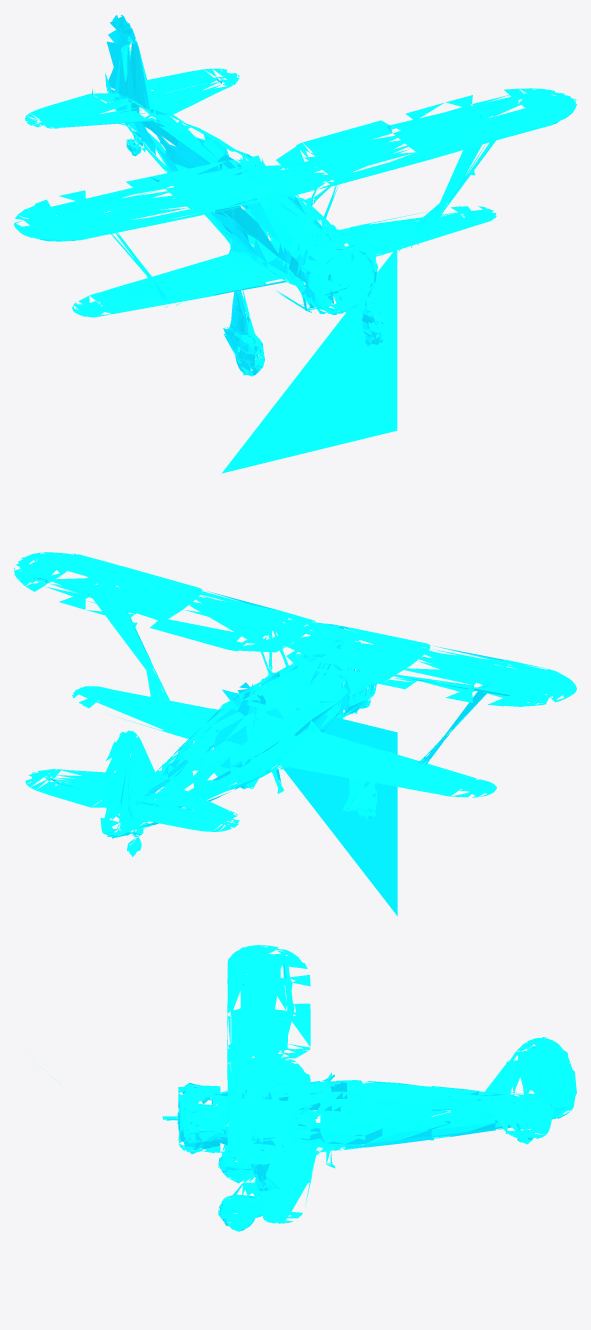
The model's file is PGAD502.glb.
3 renders of one model, top to bottom at view 1: azimuth 30°, elevation 25°; view 2: azimuth 150°, elevation 25°; view 3: azimuth 270°, elevation 25°, orthographic. The views are drawn at different scales.
Parts seen in each view (by area): view 1: misc; view 2: misc; view 3: misc.
Boxes of the visible parts, x1,y1,x2,y2 form: misc: [14, 14, 576, 473]; misc: [14, 552, 576, 915]; misc: [38, 945, 576, 1231].
Bounding box in the file's own units: 0.7024 × 0.3634 × 0.759.
